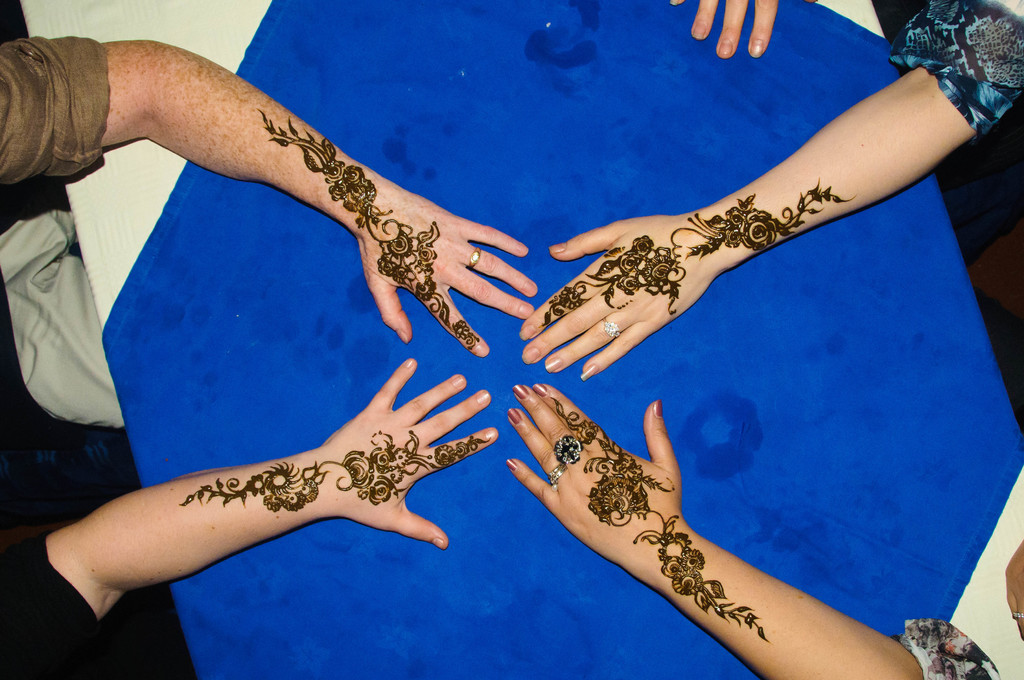Person: (0, 35, 538, 429), (507, 287, 1024, 680), (518, 0, 1024, 382), (0, 358, 497, 680)
